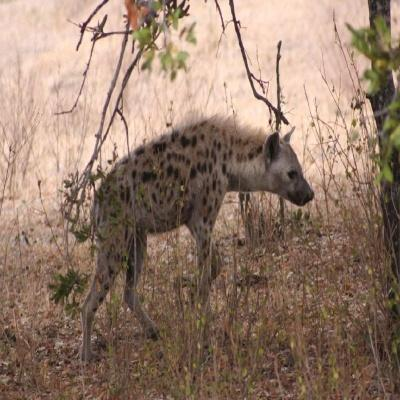hyenas: (73, 100, 360, 321)
